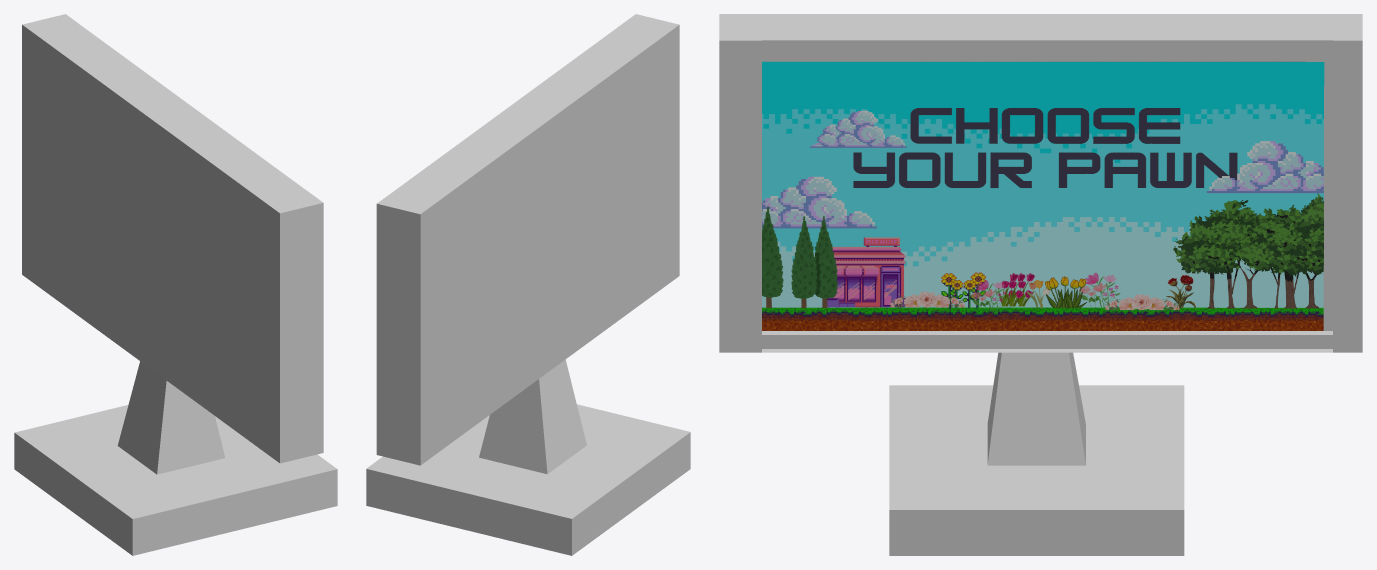
Rendered from monitor_choose_pawn.fbx.
3 views of the same model, side by side, from view 1: azimuth 30°, elevation 25°; view 2: azimuth 150°, elevation 25°; view 3: azimuth 270°, elevation 25° (orthographic). The views are drawn at different scales.
Visible parts, largest first — view 1: Cube.001; view 2: Cube.001; view 3: Plane, Cube.001.
Part boxes in pixels (box(x1,y1,x2,y2)): Cube.001: box(14, 14, 337, 555); Cube.001: box(366, 14, 690, 555); Plane: box(762, 61, 1324, 330); Cube.001: box(719, 14, 1362, 555).
Bounding box in the file's own units: 577 × 1005 × 1259.
Materials: 2 (1 with a texture image).
